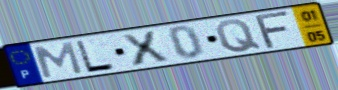0: (168, 24, 206, 61)
F: (254, 9, 294, 51)
L: (73, 39, 118, 74)
M: (32, 41, 86, 80)
Q: (213, 18, 265, 54)
X: (118, 29, 172, 68)
